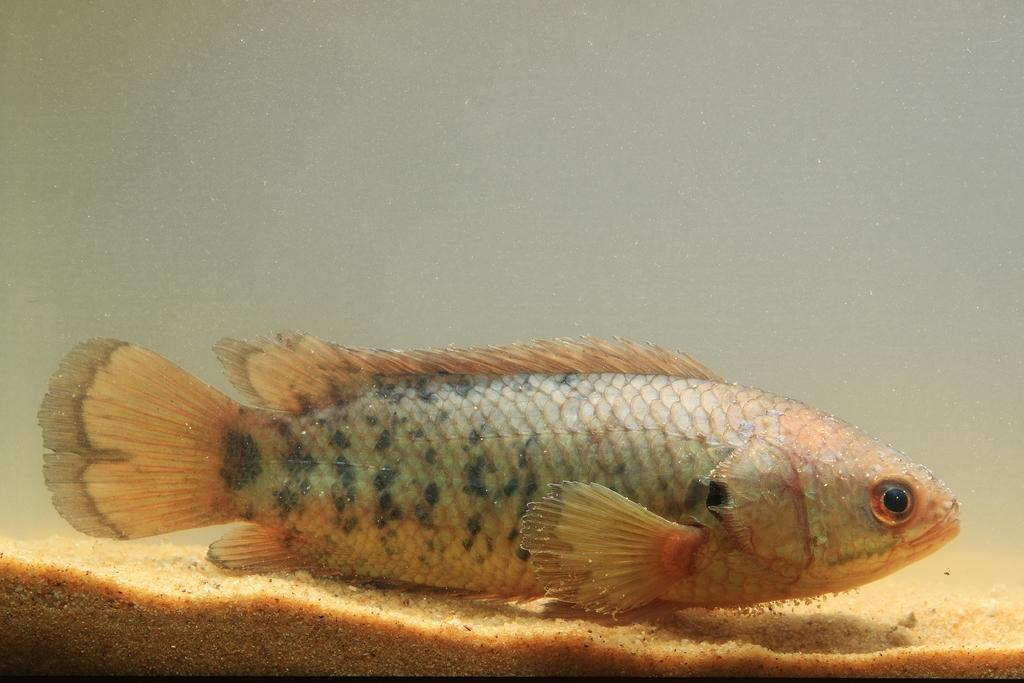Climbing Perch: (37, 323, 963, 628)
